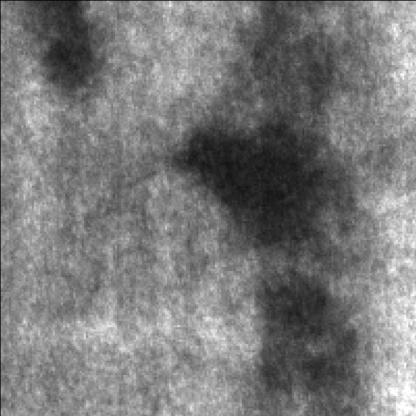patches: (183, 73, 343, 256), (258, 287, 339, 389), (29, 2, 94, 98)
